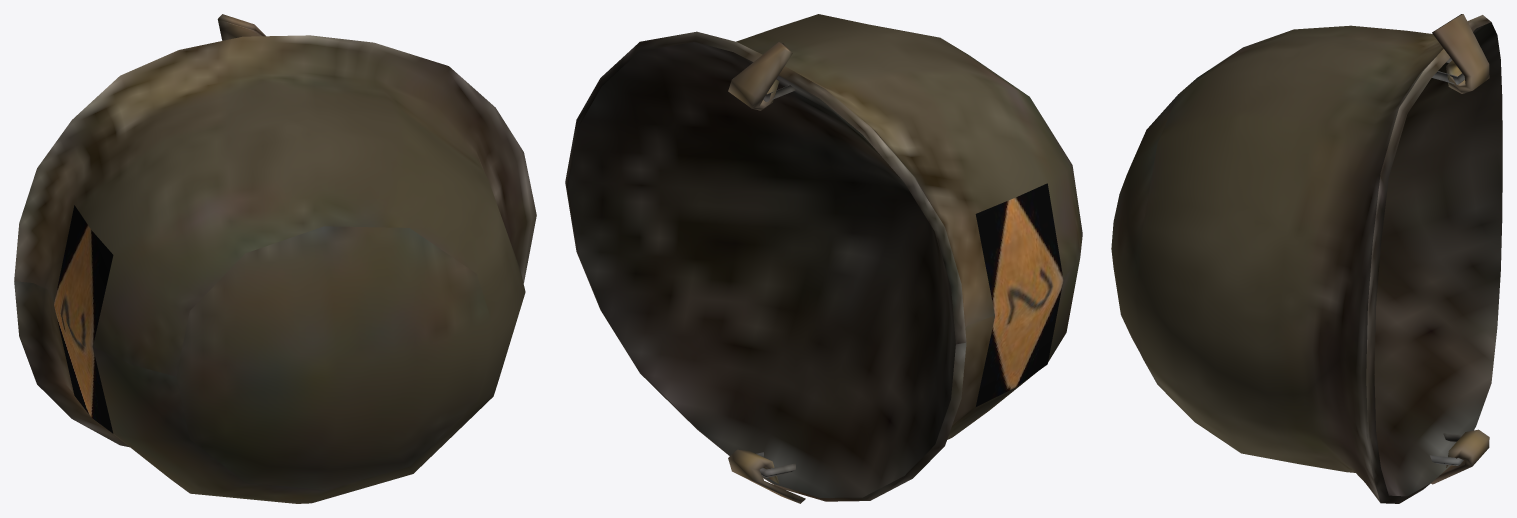
The model's file is helmet_us_wet_ranger_mo.glb.
The picture shows the model from 3 angles, left to right: view 1: azimuth 30°, elevation 25°; view 2: azimuth 150°, elevation 25°; view 3: azimuth 270°, elevation 25°; orthographic projection.
Bounding box in the file's own units: 11.85 × 11.05 × 8.5.
2 materials, 2 textured.
